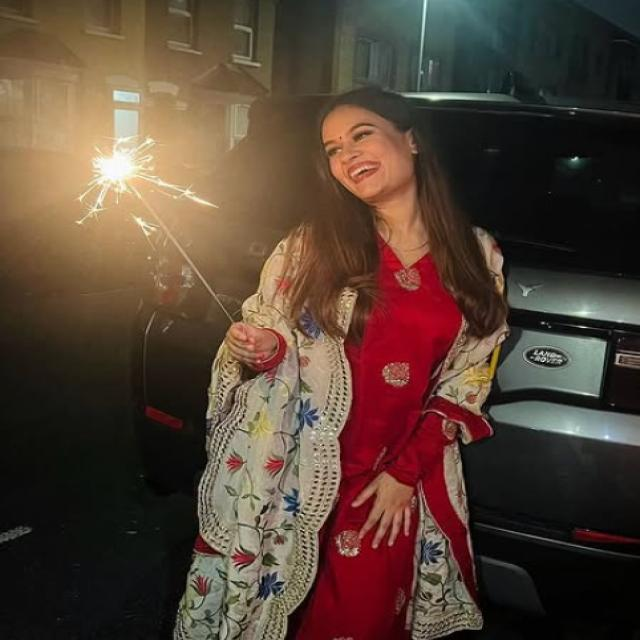fire: (94, 149, 151, 183)
